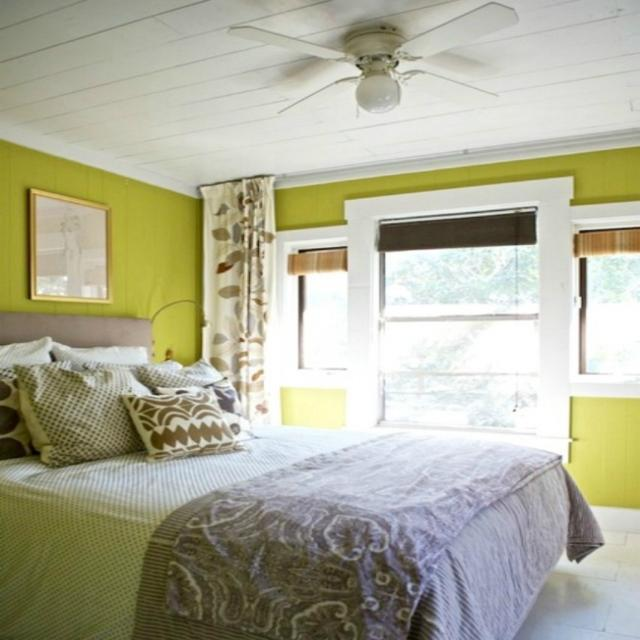fan_off: (219, 6, 509, 111)
